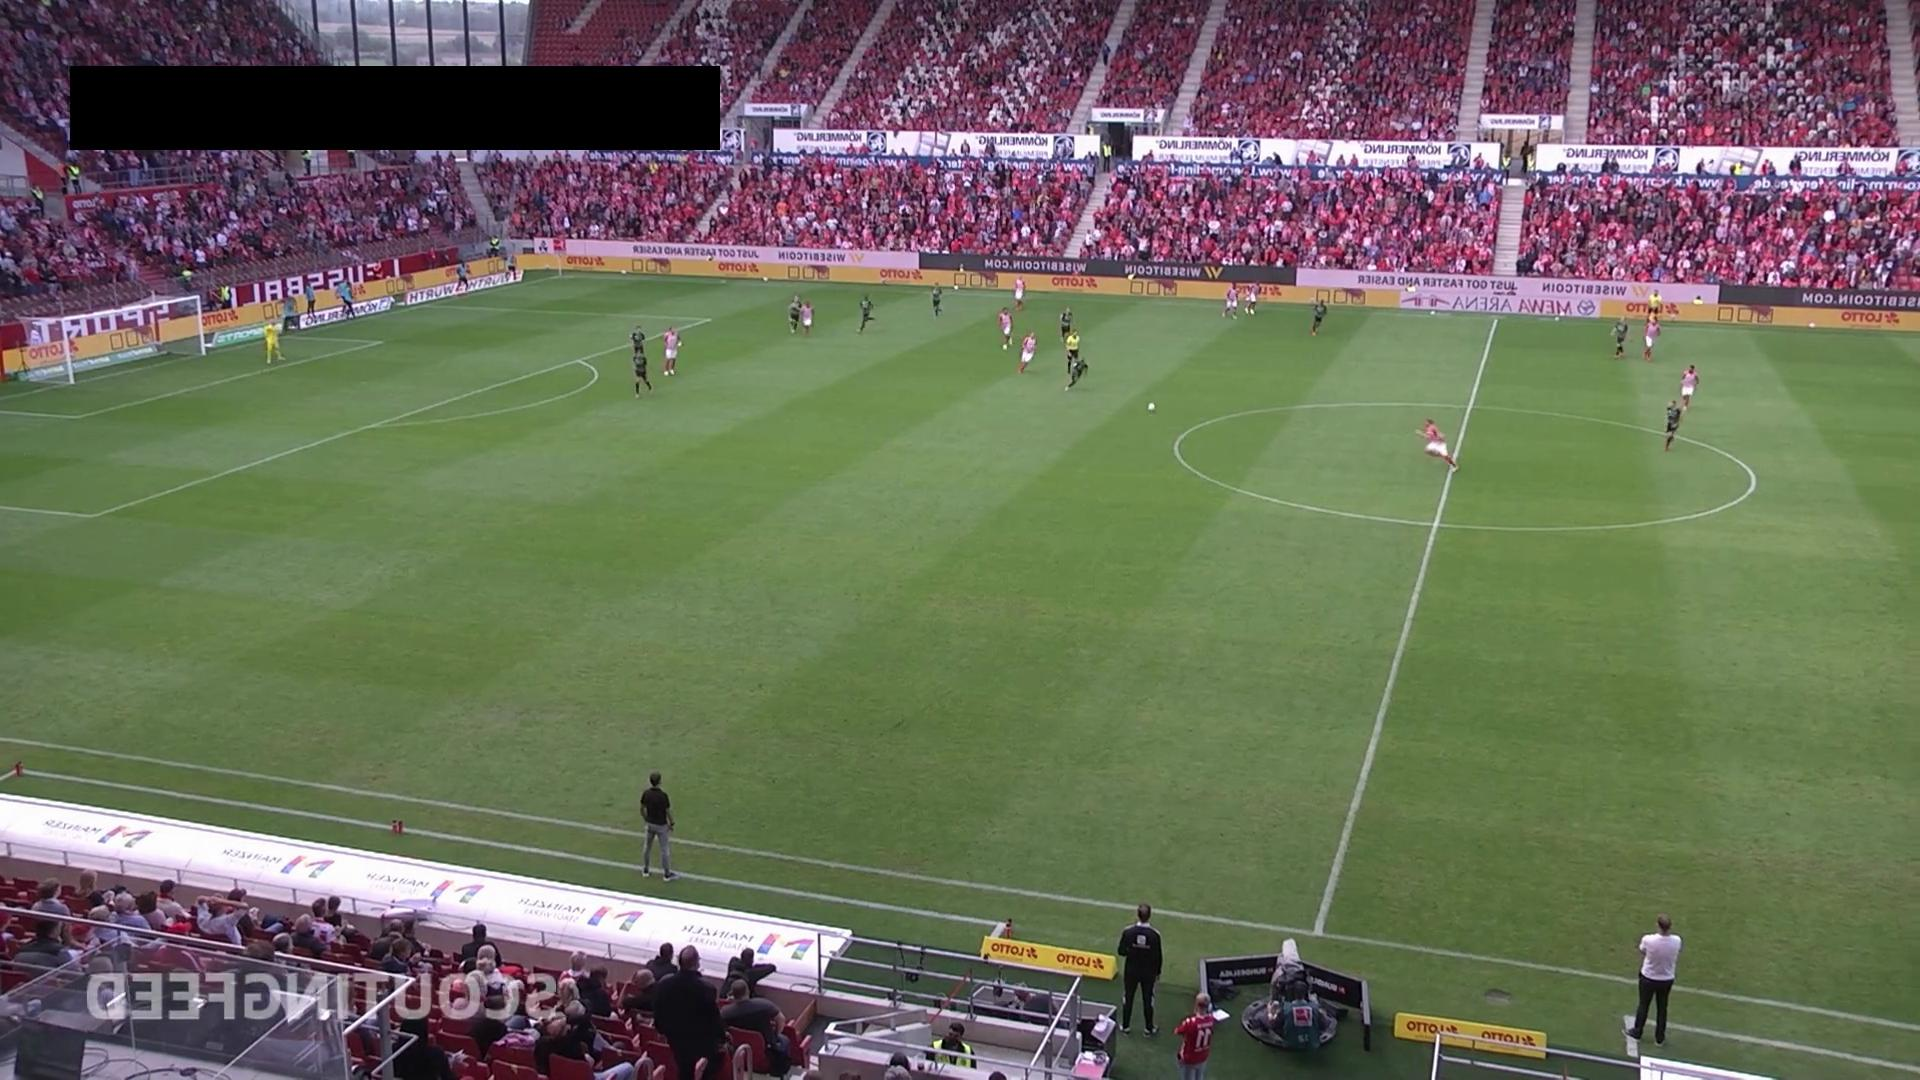ball: (1147, 401, 1156, 413)
goalkeeper: (263, 320, 285, 364)
player: (1414, 417, 1459, 473), (662, 326, 685, 376), (632, 346, 653, 398), (1679, 363, 1700, 411), (1663, 399, 1682, 452), (1642, 313, 1662, 362), (1063, 356, 1090, 391), (1610, 313, 1630, 358), (1017, 330, 1037, 375), (856, 294, 876, 337), (998, 306, 1014, 351), (630, 325, 647, 367), (1310, 299, 1328, 337), (1223, 283, 1239, 320), (787, 296, 802, 335), (799, 299, 813, 337), (931, 282, 944, 320), (1059, 306, 1074, 338), (1244, 283, 1258, 316), (1013, 276, 1025, 311)
referee: (1064, 328, 1082, 375), (1646, 288, 1663, 330)
